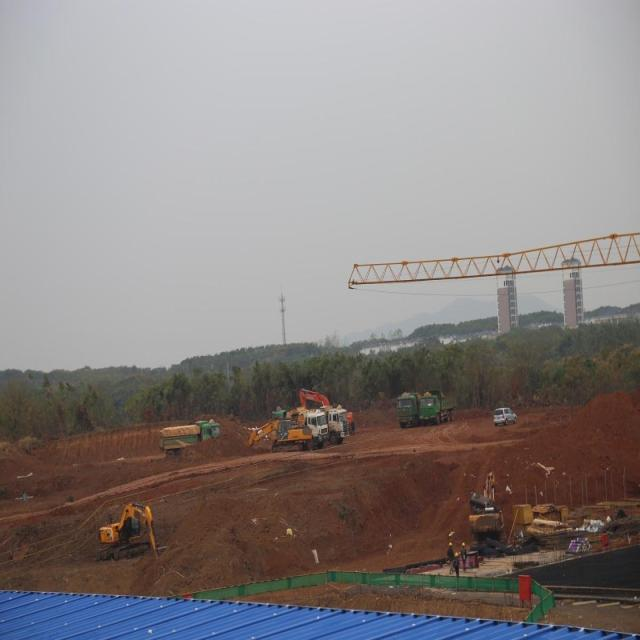crane: (339, 208, 636, 411)
excavator: (91, 495, 164, 570), (466, 465, 513, 562), (244, 414, 314, 460)
truck: (155, 415, 222, 460), (417, 383, 459, 431), (394, 386, 420, 433)
